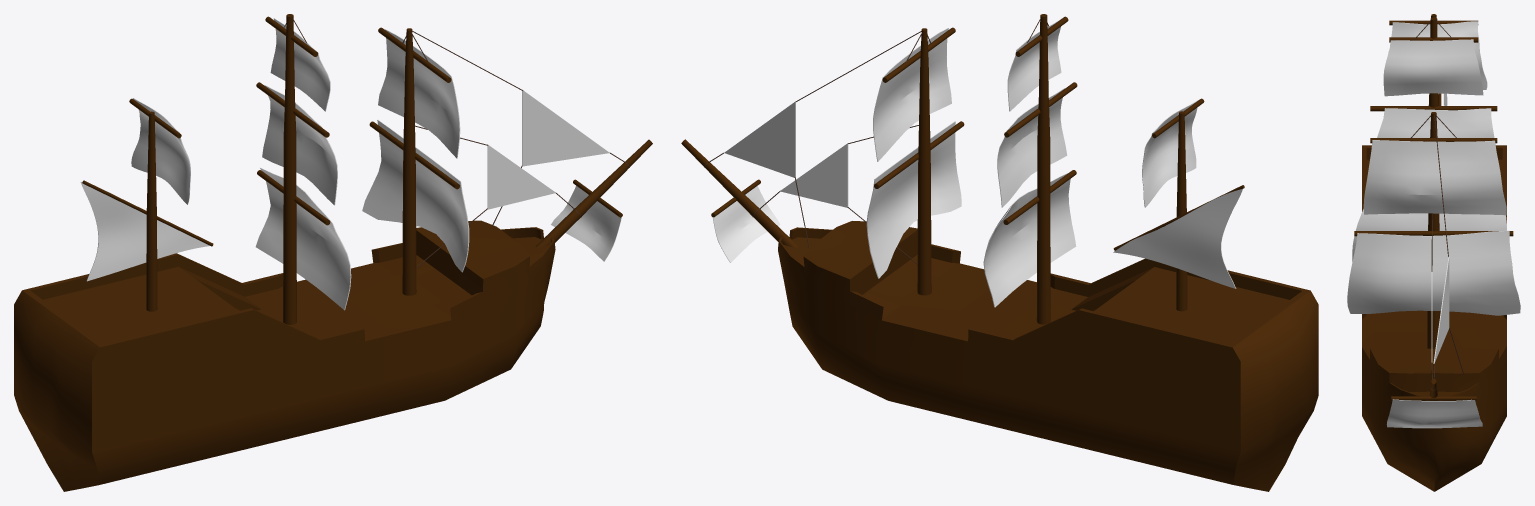
Rendered from BarcoTex.fbx.
The picture shows the model from 3 angles, left to right: view 1: azimuth 30°, elevation 25°; view 2: azimuth 150°, elevation 25°; view 3: azimuth 270°, elevation 25°; orthographic projection. The views are drawn at different scales.
Visible parts, largest first — view 1: Casco, Vela, Vela.002, VelaLatina, Vela.001, Palo Mayor, Vela.003, Foque, Trinquete, Vela.005, Contrafoque, Vela.006 (+3 smaller); view 2: Casco, Vela, Vela.002, VelaLatina, Vela.001, Palo Mayor, Vela.003, Trinquete, Foque, Vela.005, Contrafoque, Vela.006 (+3 smaller); view 3: Casco, Vela, Vela.001, Vela.004, Vela.003, Vela.006, Vela.002, Vela.005, Trinquete, Foque, Cruzeta.001, Cruzeta.005 (+6 smaller).
Part boxes in pixels (x1=…): Casco: x1=14, y1=220, x2=555, y2=491; Vela: x1=362, y1=119, x2=469, y2=272; Vela.002: x1=255, y1=167, x2=351, y2=310; VelaLatina: x1=80, y1=182, x2=209, y2=281; Vela.001: x1=378, y1=29, x2=460, y2=158; Palo Mayor: x1=283, y1=14, x2=296, y2=324; Vela.003: x1=262, y1=85, x2=337, y2=205; Foque: x1=522, y1=89, x2=609, y2=166; Trinquete: x1=402, y1=28, x2=416, y2=295; Vela.005: x1=131, y1=98, x2=190, y2=204; Contrafoque: x1=487, y1=144, x2=555, y2=209; Vela.006: x1=551, y1=185, x2=621, y2=261; Casco: x1=778, y1=221, x2=1318, y2=491; Vela: x1=866, y1=121, x2=961, y2=278; Vela.002: x1=983, y1=172, x2=1076, y2=307; VelaLatina: x1=1113, y1=189, x2=1242, y2=288; Vela.001: x1=873, y1=28, x2=951, y2=161; Palo Mayor: x1=1036, y1=14, x2=1050, y2=324; Vela.003: x1=997, y1=88, x2=1067, y2=207; Trinquete: x1=917, y1=28, x2=931, y2=295; Foque: x1=724, y1=101, x2=795, y2=177; Vela.005: x1=1142, y1=100, x2=1198, y2=207; Contrafoque: x1=780, y1=143, x2=848, y2=207; Vela.006: x1=712, y1=186, x2=780, y2=262; Casco: x1=1362, y1=145, x2=1506, y2=491; Vela: x1=1347, y1=230, x2=1520, y2=315; Vela.001: x1=1363, y1=140, x2=1506, y2=215; Vela.004: x1=1383, y1=39, x2=1483, y2=96; Vela.003: x1=1377, y1=108, x2=1494, y2=137; Vela.006: x1=1386, y1=399, x2=1482, y2=428; Vela.002: x1=1352, y1=209, x2=1506, y2=261; Vela.005: x1=1391, y1=21, x2=1487, y2=89; Trinquete: x1=1427, y1=112, x2=1440, y2=348; Foque: x1=1433, y1=256, x2=1449, y2=363; Cruzeta.001: x1=1354, y1=231, x2=1513, y2=236; Cruzeta.005: x1=1370, y1=106, x2=1497, y2=111.
Bounding box in the file's own units: 18.04 × 4.78 × 11.92.
